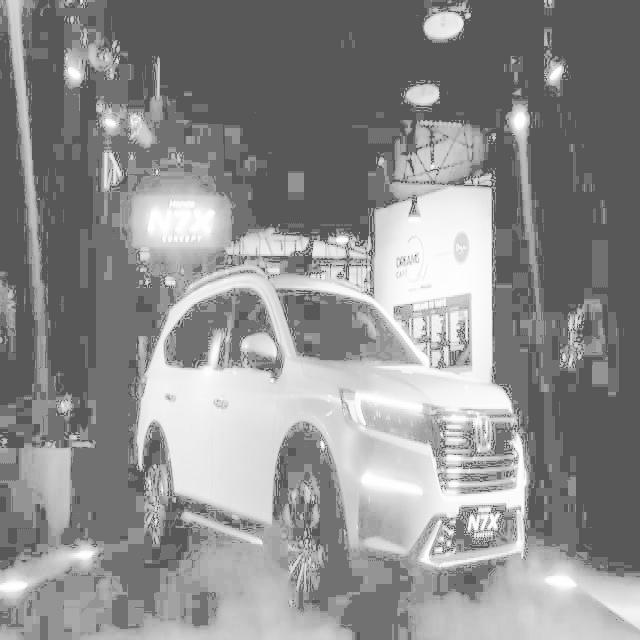Car: (140, 263, 530, 599)
